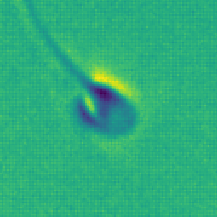normal: (7, 1, 90, 92)
